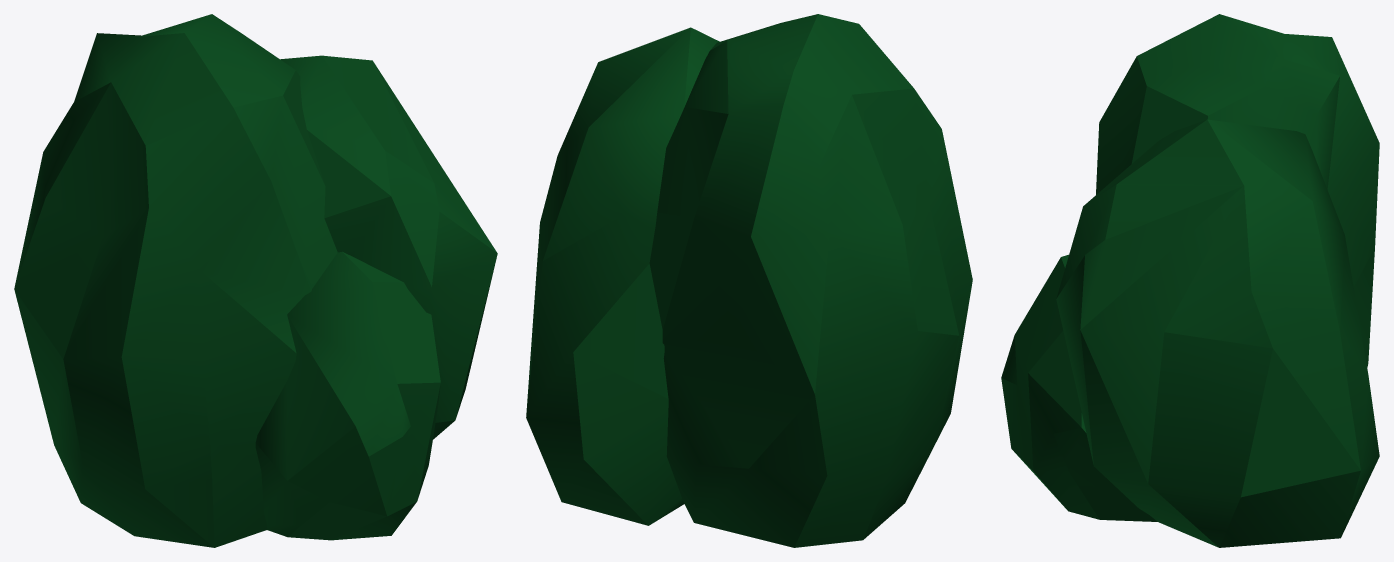
File: Bush_2.fbx
The picture shows the model from 3 angles, left to right: view 1: azimuth 30°, elevation 25°; view 2: azimuth 150°, elevation 25°; view 3: azimuth 270°, elevation 25°; orthographic projection. The views are drawn at different scales.
Parts seen in each view (by area): view 1: Bush_2; view 2: Bush_2; view 3: Bush_2.
Boxes of the visible parts, x1,y1,x2,y2 form: Bush_2: (14,14,497,547); Bush_2: (526,14,972,547); Bush_2: (1001,14,1379,547).
Size of the model in its own units: 47.13 by 54.95 by 42.8.
